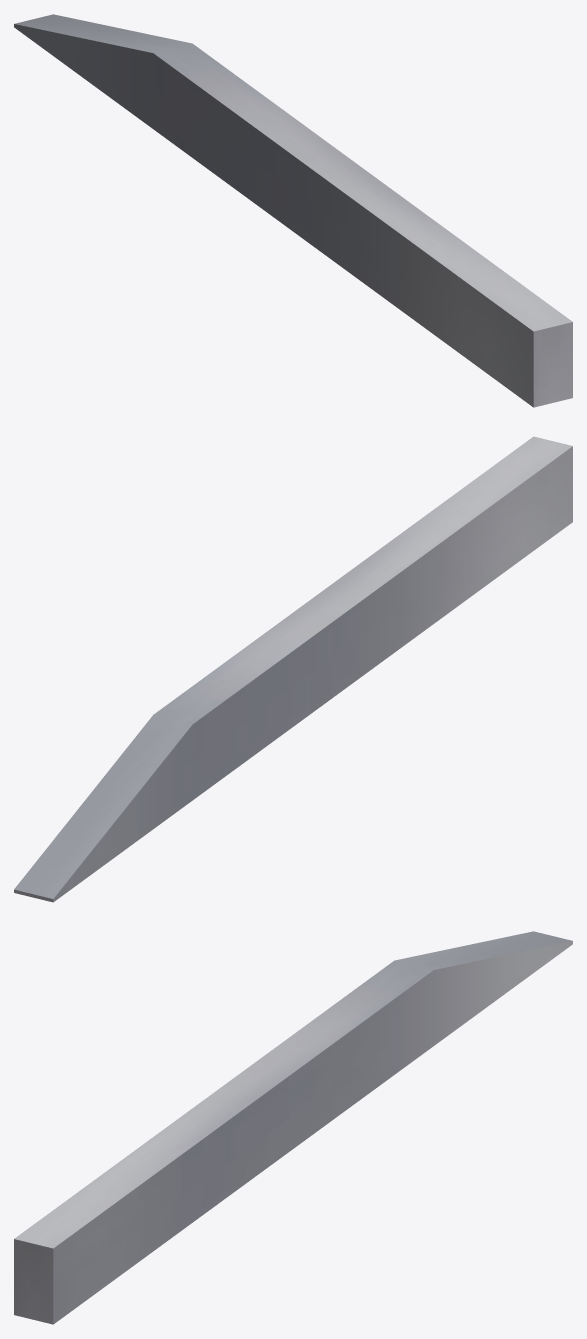
Rendered from rail.fbx.
3 renders of one model, top to bottom at view 1: azimuth 30°, elevation 25°; view 2: azimuth 150°, elevation 25°; view 3: azimuth 330°, elevation 25°, orthographic.
Parts seen in each view (by area): view 1: rail; view 2: rail; view 3: rail.
Boxes of the visible parts, x1=… form: rail: x1=14, y1=14, x2=572, y2=407; rail: x1=14, y1=436, x2=572, y2=902; rail: x1=14, y1=931, x2=572, y2=1324.
Bounding box in the file's own units: 12.75 × 23.54 × 291.
